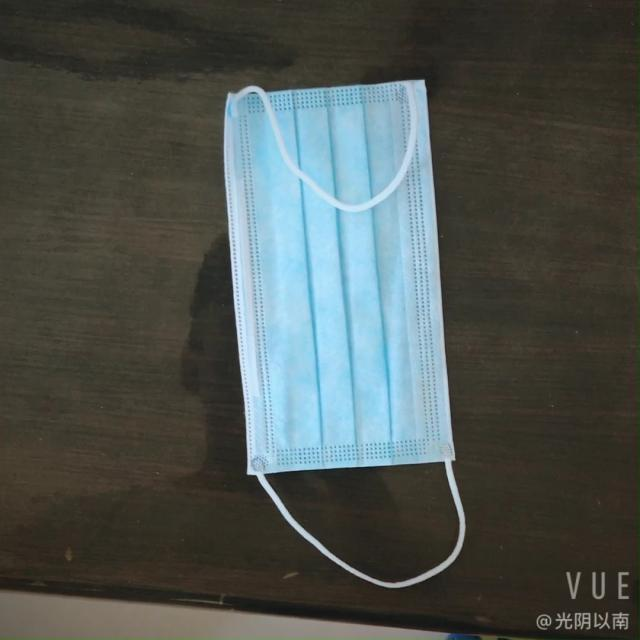face mask: (222, 88, 443, 470)
